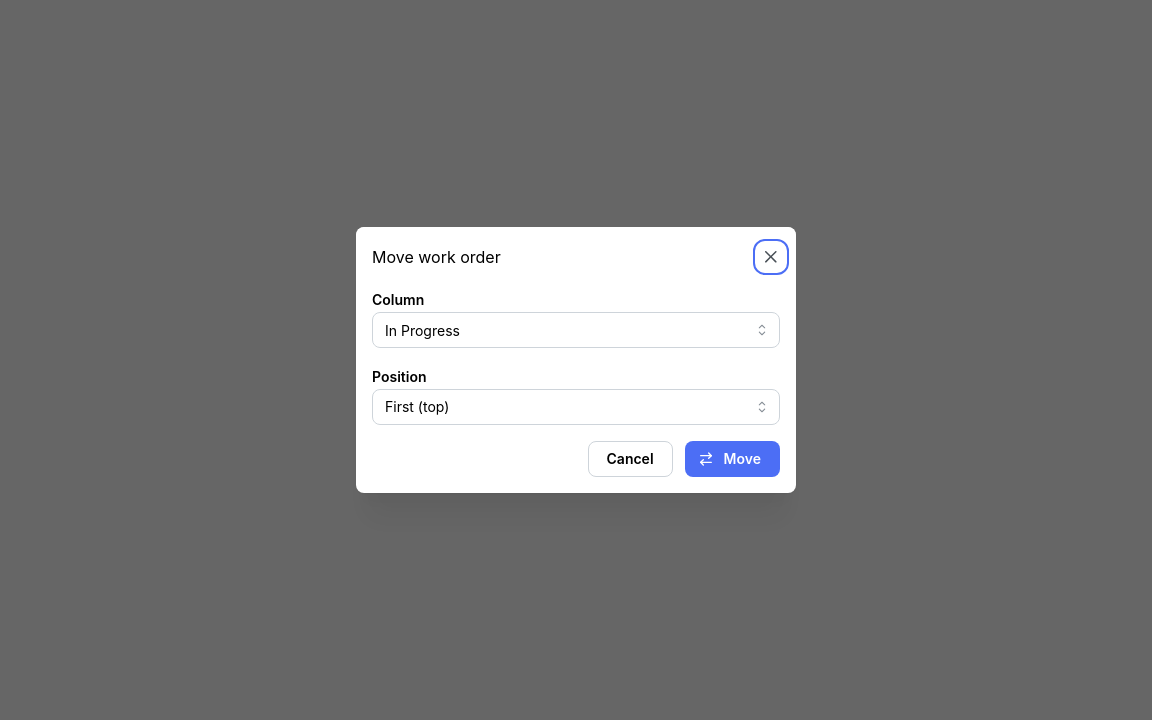
it: MoveCardModal › marks the waiting reason and resume date as required when entering Waiting
Act — choose the Waiting lane so the inline fields appear.
Click the dropdown labelled "Column" at [576, 330], box left=372, top=312, right=780, bottom=348
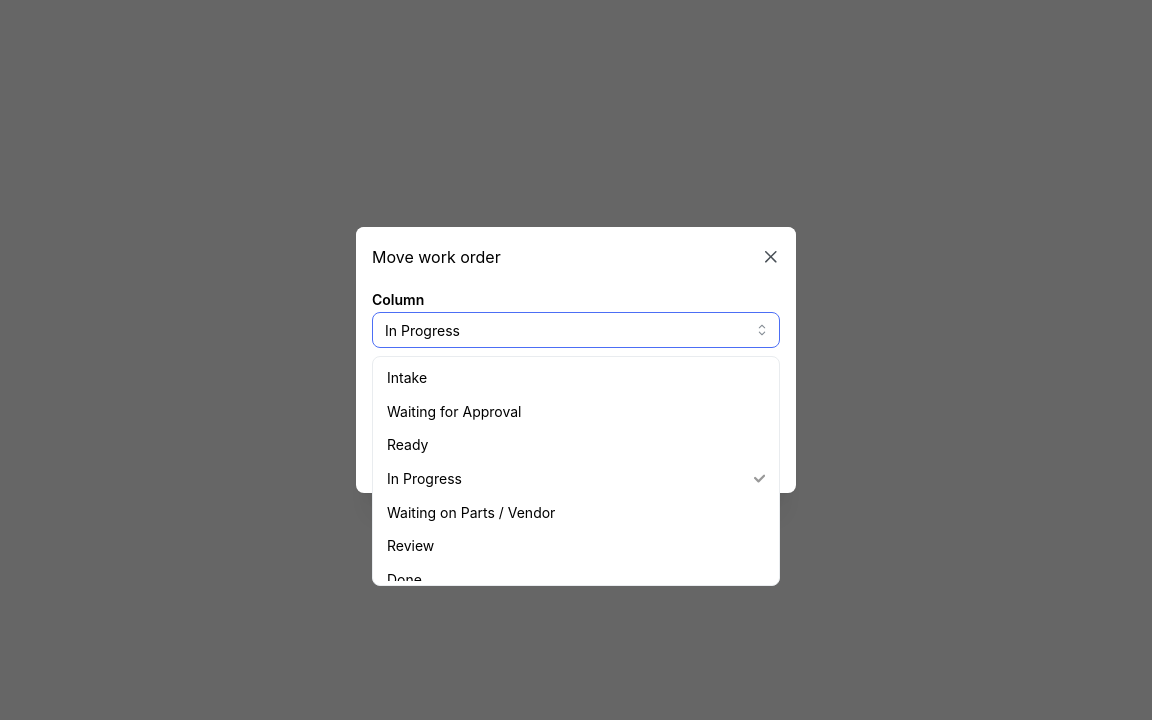
Click the option "Waiting on Parts / Vendor" at [471, 512], box left=387, top=504, right=555, bottom=521
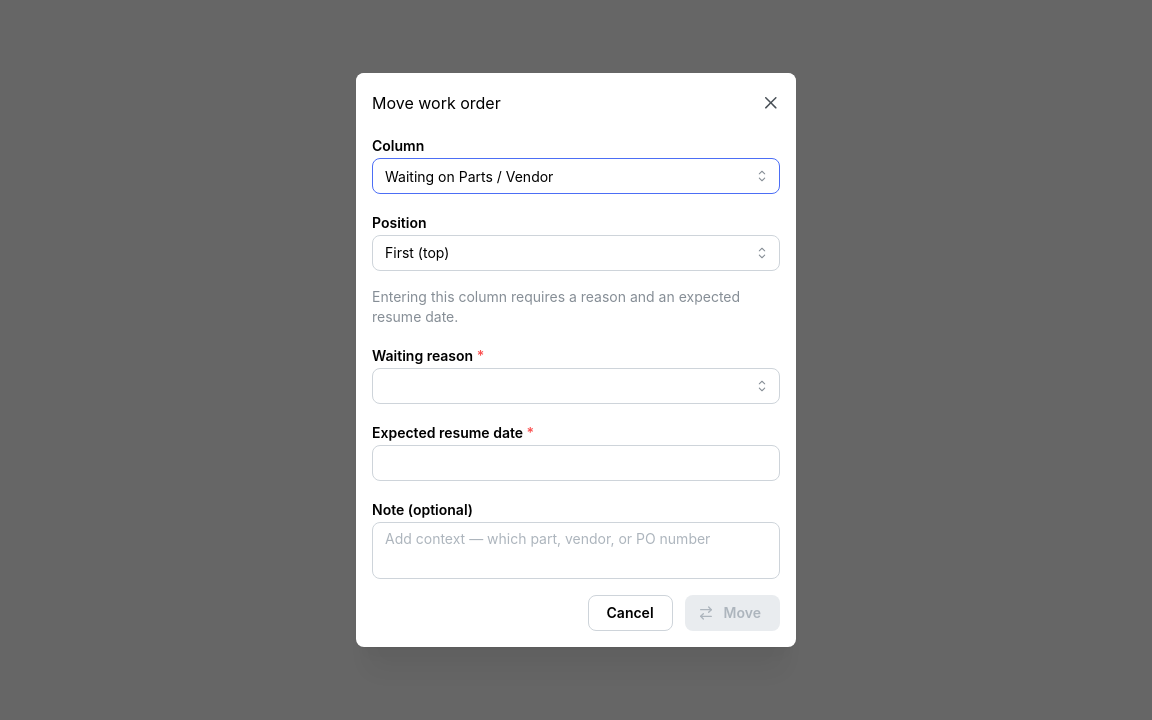
Expected: the button "Move" has attribute data-disabled="true", left=685, top=595, right=780, bottom=631
Click the dropdown labelled "Waiting reason *" at [576, 386], box left=372, top=368, right=780, bottom=404
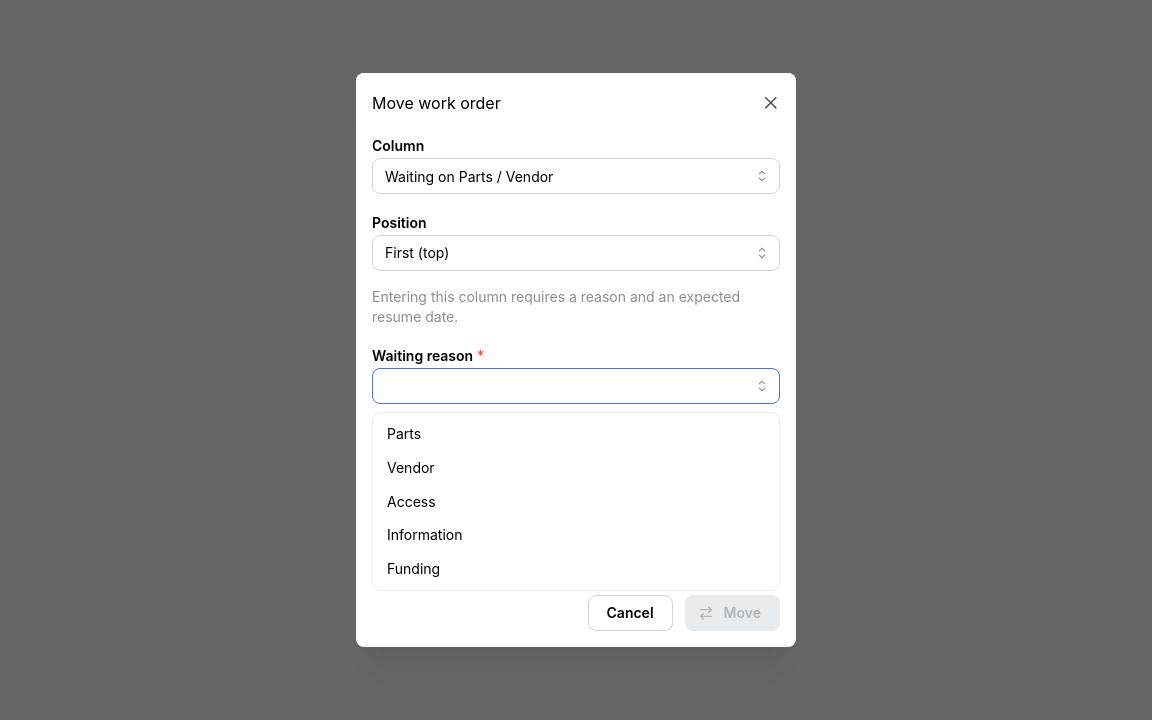
Click the option "Parts" at [404, 434], box left=387, top=425, right=421, bottom=442
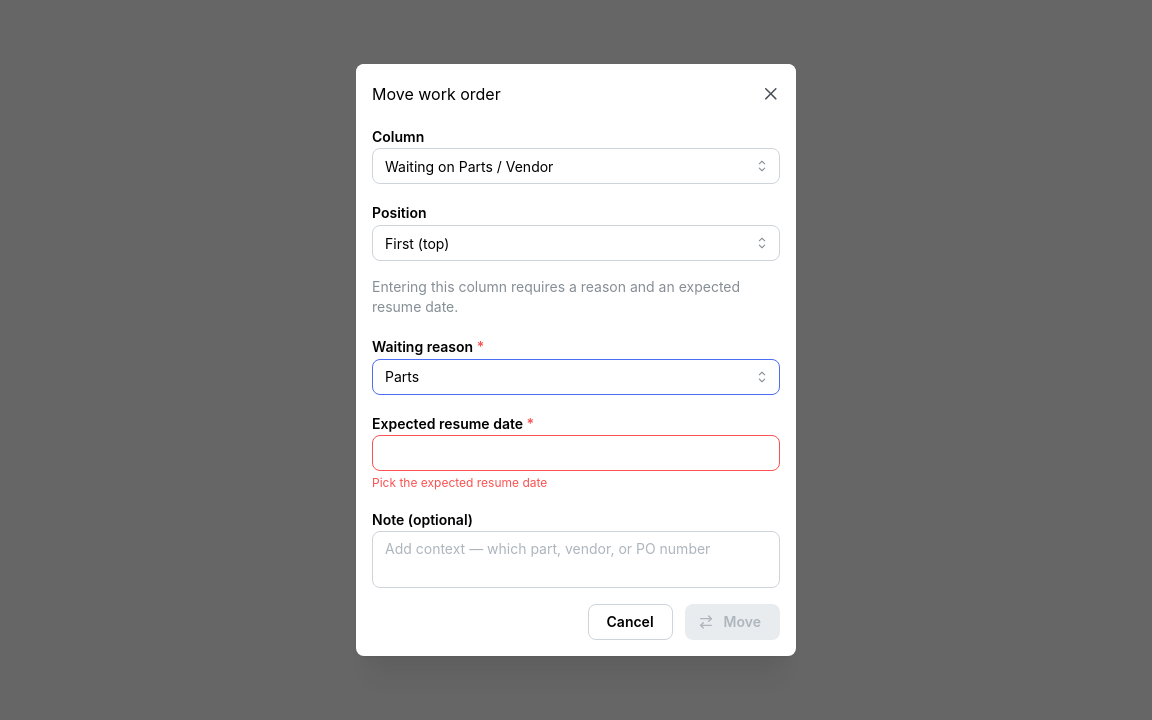
Expected: the text "Pick the expected resume date" is shown, left=372, top=475, right=547, bottom=490
